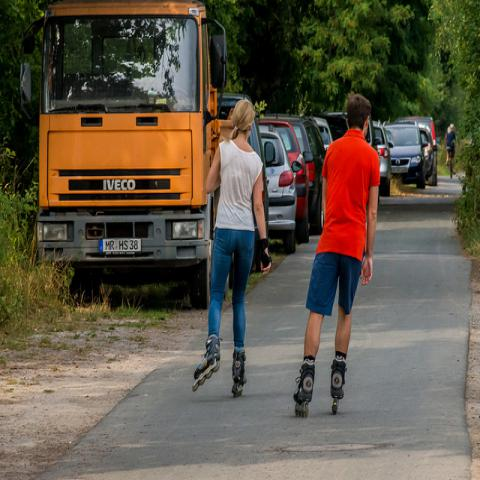car: (261, 113, 326, 236), (258, 118, 314, 245), (258, 129, 302, 256), (383, 120, 429, 190), (404, 118, 438, 185), (372, 118, 394, 198), (318, 114, 349, 142), (314, 116, 334, 151)
truck: (18, 0, 234, 310)
